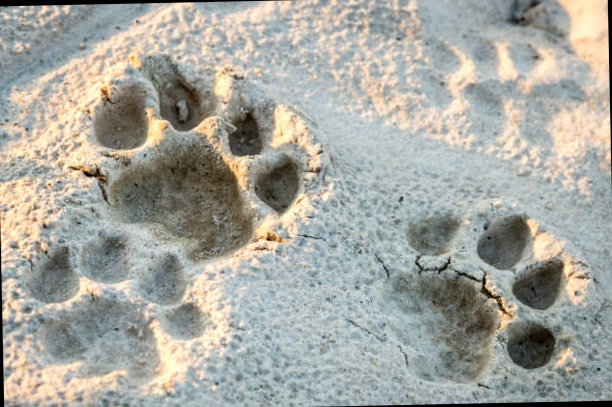coyote: (58, 61, 320, 280), (374, 202, 597, 391)
